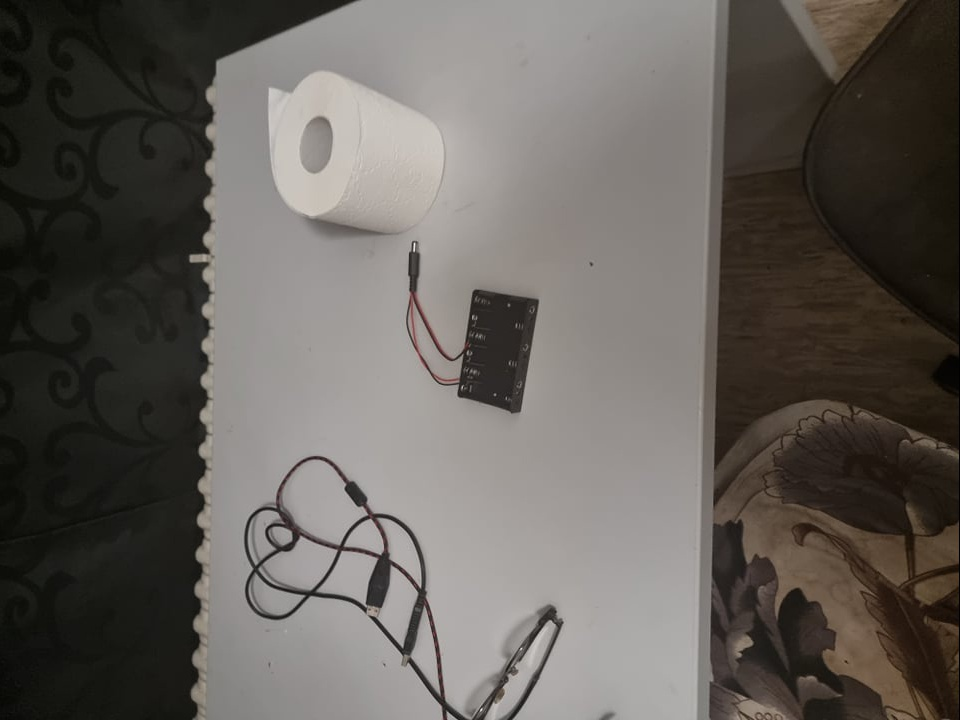BATTERY BOX: (462, 281, 541, 417)
